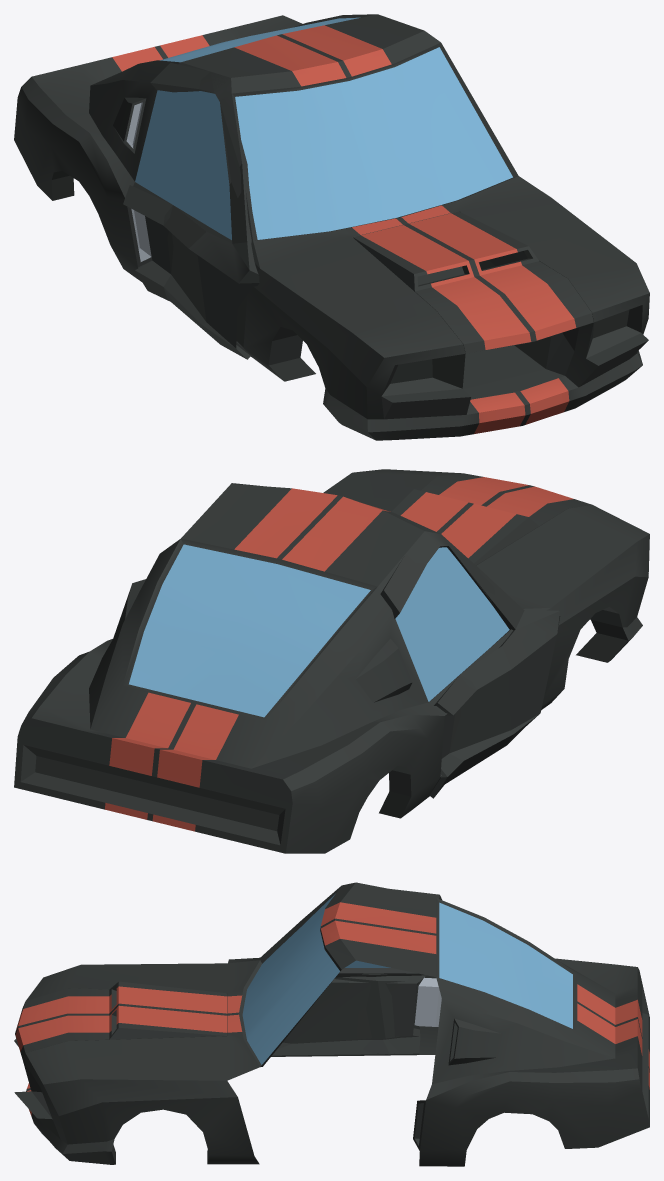
File: macchina_nera.fbx
The picture shows the model from 3 angles, top to bottom: view 1: azimuth 30°, elevation 25°; view 2: azimuth 150°, elevation 25°; view 3: azimuth 270°, elevation 25°; orthographic projection. The views are drawn at different scales.
Parts seen in each view (by area): view 1: scocca_1, cofano_1, porta_rotta_1, porta_nuova_1; view 2: scocca_1, porta_rotta_1, porta_nuova_1, cofano_1; view 3: scocca_1, cofano_1, porta_nuova_1, porta_rotta_1.
Part boxes in pixels (box(x1,y1,x2,y2)): scocca_1: box(14, 14, 649, 440); cofano_1: box(353, 211, 593, 353); porta_rotta_1: box(123, 62, 259, 359); porta_nuova_1: box(133, 62, 259, 357); scocca_1: box(14, 469, 649, 853); porta_rotta_1: box(380, 531, 560, 798); porta_nuova_1: box(378, 531, 551, 797); cofano_1: box(391, 473, 591, 565); scocca_1: box(14, 882, 649, 1166); cofano_1: box(15, 981, 226, 1059); porta_nuova_1: box(260, 935, 425, 1056); porta_rotta_1: box(228, 887, 441, 1055).
Size of the model in its own units: 207 by 141 by 424.
